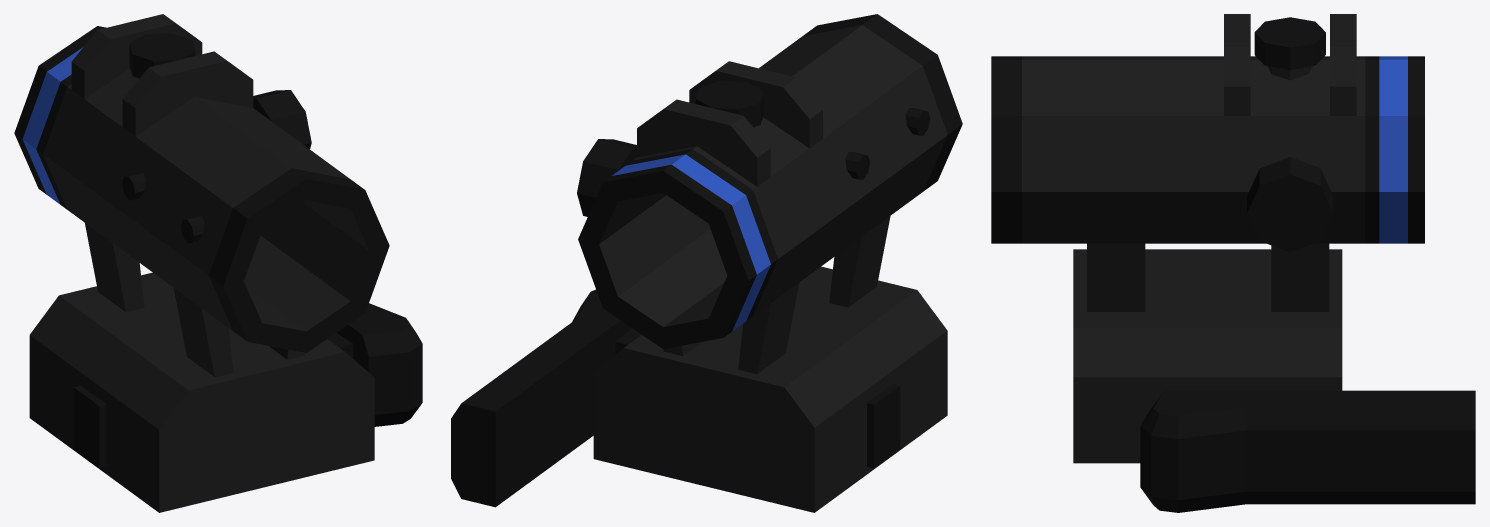
Rendered from reddot.glb.
3 views of the same model, side by side, from view 1: azimuth 30°, elevation 25°; view 2: azimuth 150°, elevation 25°; view 3: azimuth 270°, elevation 25° (orthographic). The views are drawn at different scales.
Visible parts, largest first — view 1: RedDot_West; view 2: RedDot_West; view 3: RedDot_West.
Boxes of the visible parts, bbox=[...] form: RedDot_West: bbox=[14, 14, 422, 512]; RedDot_West: bbox=[451, 14, 962, 512]; RedDot_West: bbox=[991, 14, 1475, 512].
Size of the model in its own units: 0.0409 by 0.0463 by 0.0526.
